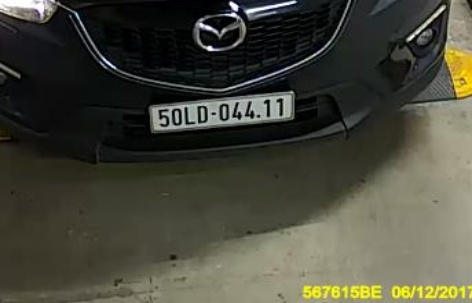plate: (148, 92, 301, 131)
